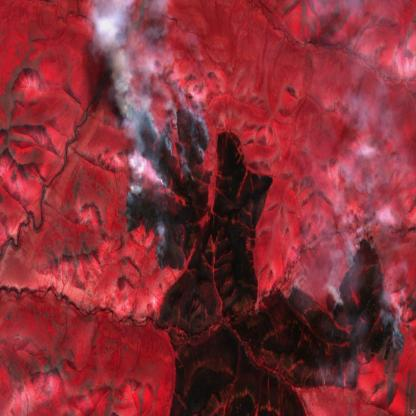fire: (115, 100, 213, 280), (283, 236, 410, 364)
